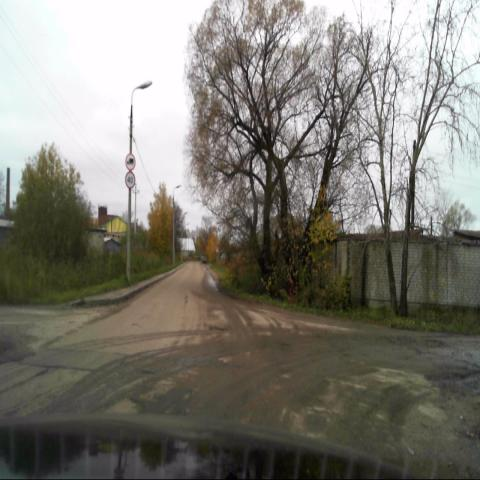3_24: (125, 171, 135, 189)
3_4_1: (125, 153, 136, 171)
